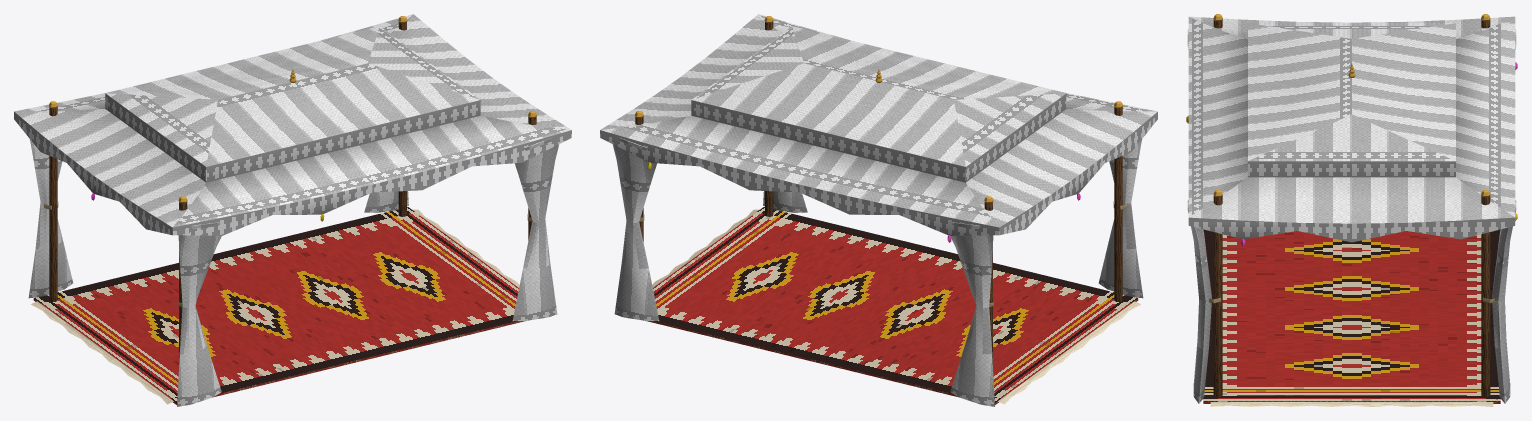
Rendered from p_tent.glb.
The picture shows the model from 3 angles, left to right: view 1: azimuth 30°, elevation 25°; view 2: azimuth 150°, elevation 25°; view 3: azimuth 270°, elevation 25°; orthographic projection. The views are drawn at different scales.
Parts seen in each view (by area): view 1: p_tent_lod0; view 2: p_tent_lod0; view 3: p_tent_lod0.
Part boxes in pixels (x1=…): p_tent_lod0: x1=14, y1=14, x2=571, y2=406; p_tent_lod0: x1=600, y1=14, x2=1157, y2=406; p_tent_lod0: x1=1186, y1=14, x2=1517, y2=406.
Size of what is drawn, in the model's own units: 6.46 by 3.66 by 4.46.
3 materials, 2 textured.
